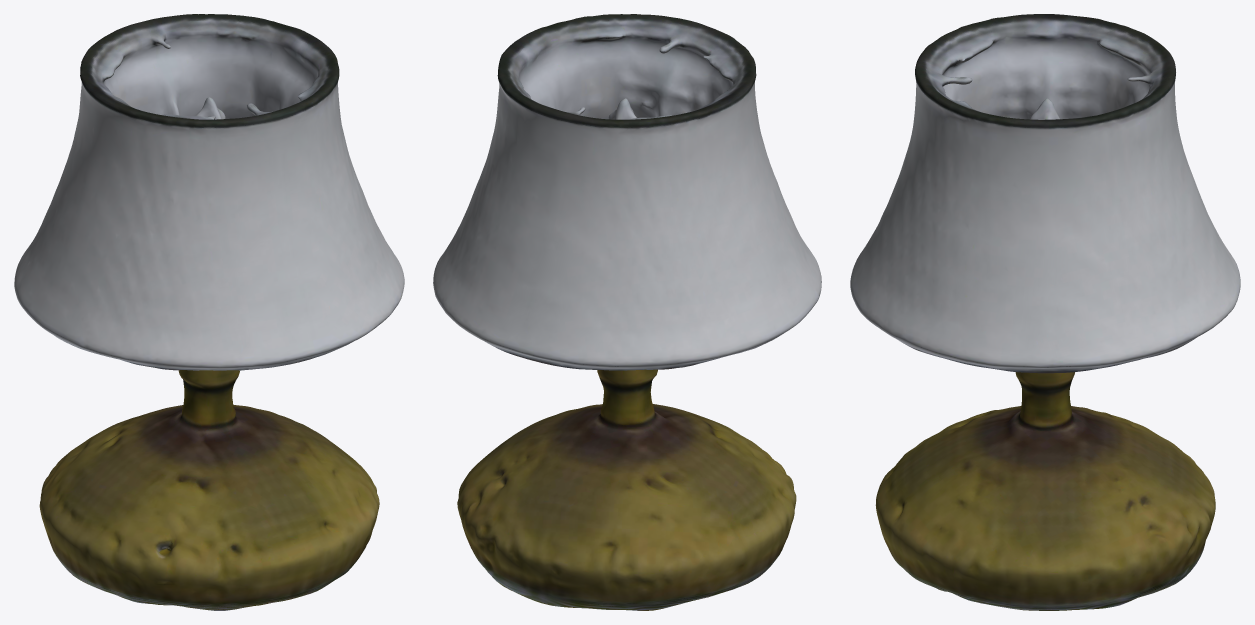
Rendered from 42ae40308d95_lamp__3d_asset_0_gl.fbx.
3 renders of one model, left to right at view 1: azimuth 30°, elevation 25°; view 2: azimuth 150°, elevation 25°; view 3: azimuth 270°, elevation 25°, orthographic.
Visible parts, largest first — view 1: high_poly; view 2: high_poly; view 3: high_poly.
Boxes of the visible parts, x1=… form: high_poly: x1=14, y1=14, x2=404, y2=610; high_poly: x1=433, y1=14, x2=821, y2=610; high_poly: x1=850, y1=14, x2=1240, y2=610.
Bounding box in the file's own units: 71.86 × 100 × 72.06.
